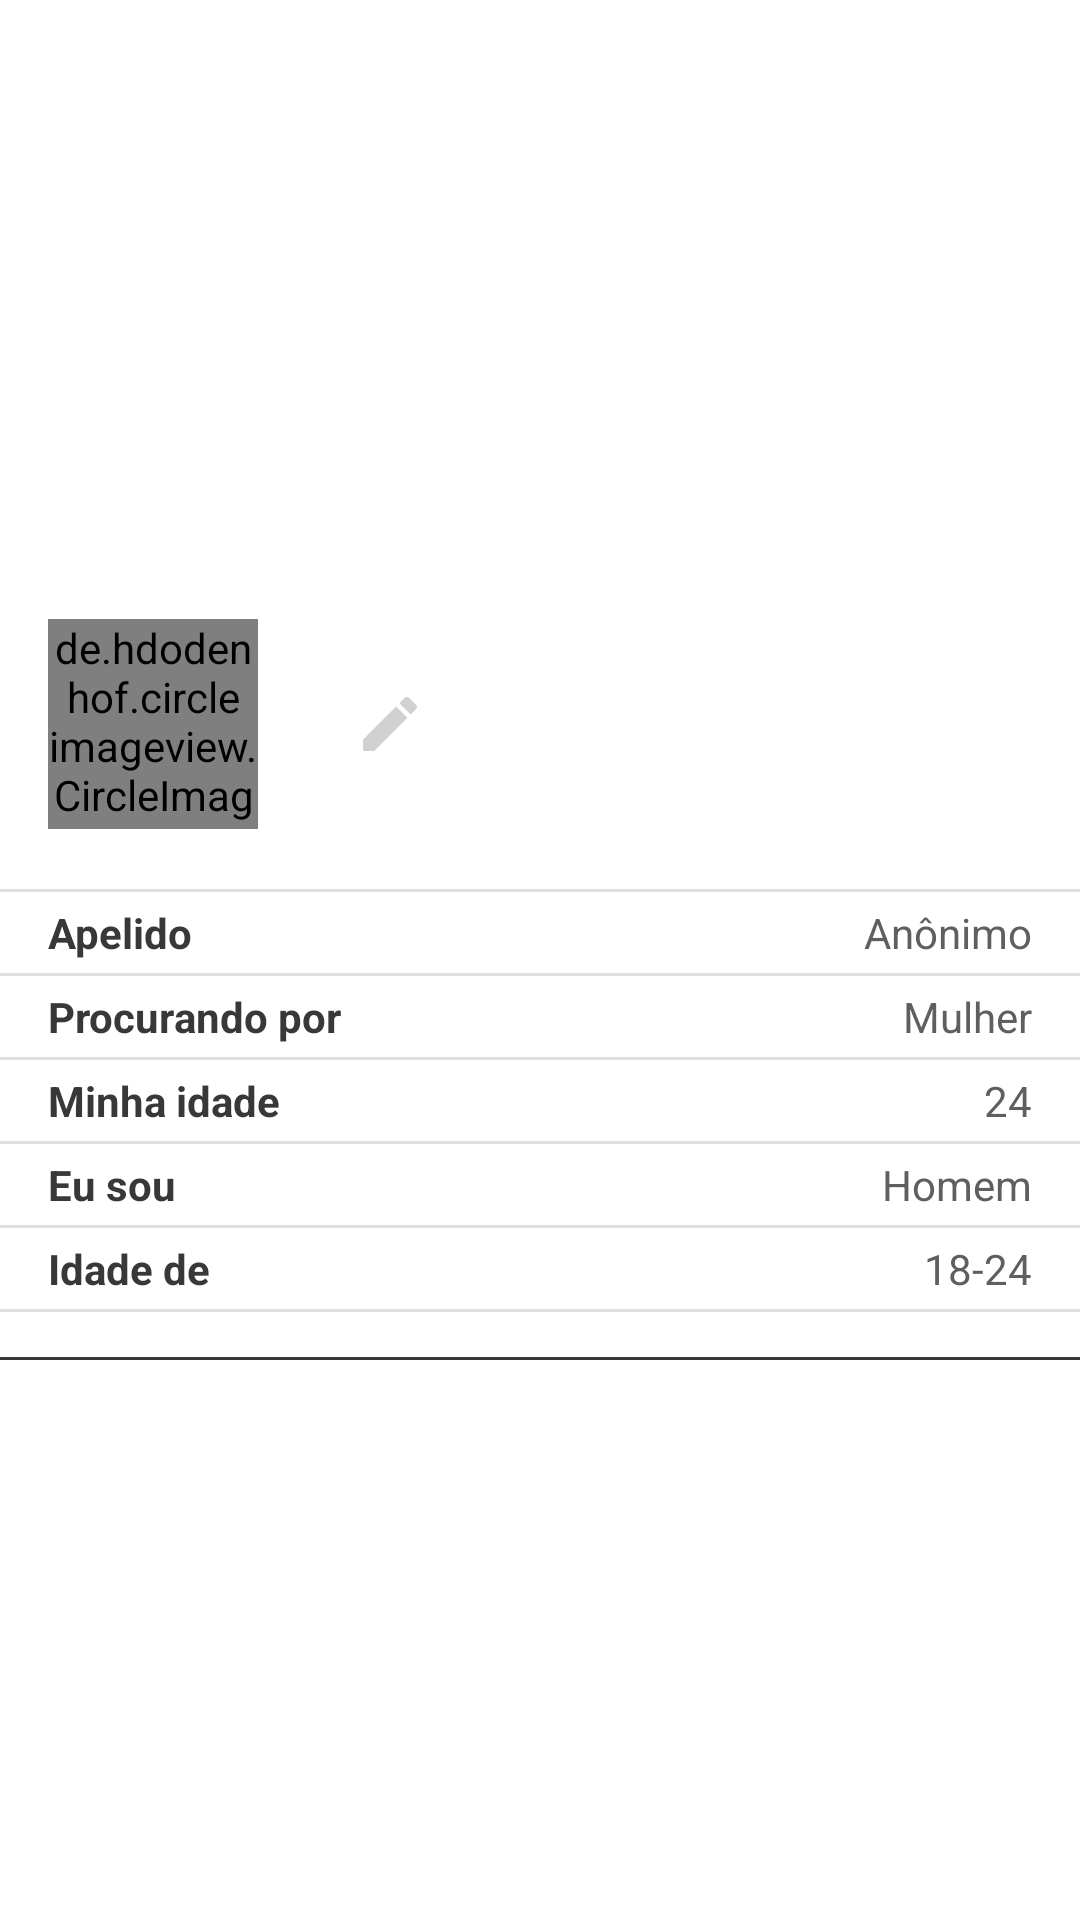

Named icons in this screenshot (1080x1920) and their bounding boxes, (x1, y1, x2, y2):
edit: (363, 697, 417, 751)
